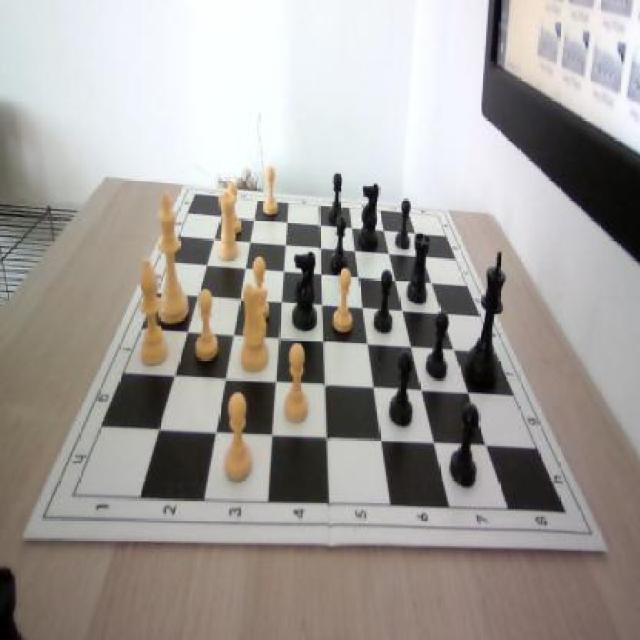black-bishop: (466, 252, 507, 388)
black-king: (291, 249, 319, 330), (358, 180, 380, 252)
black-knight: (449, 403, 478, 487), (390, 349, 416, 426), (424, 311, 448, 380), (374, 268, 395, 335), (329, 217, 350, 275), (395, 198, 411, 252), (329, 171, 345, 221)
black-queen: (404, 228, 430, 304)
black-rook: (135, 256, 168, 366)
white-bishop: (157, 196, 190, 326)
white-king: (234, 274, 273, 375)
white-knight: (221, 392, 254, 482), (282, 340, 312, 425), (192, 288, 220, 364), (246, 257, 270, 325), (334, 266, 354, 332), (262, 168, 280, 216), (225, 183, 242, 233)
white-queen: (217, 191, 240, 261)
